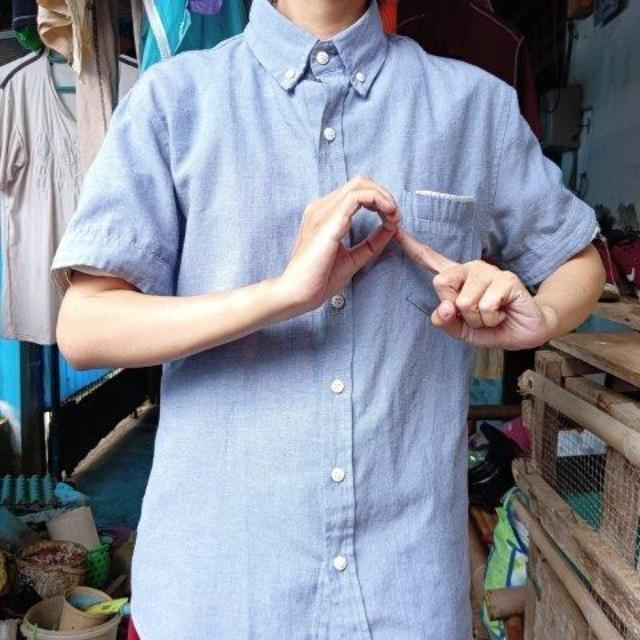Q: (289, 172, 544, 356)
